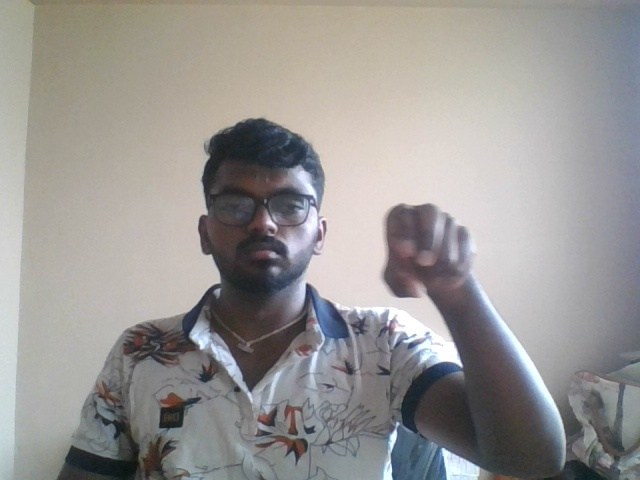No: (361, 173, 520, 352)
